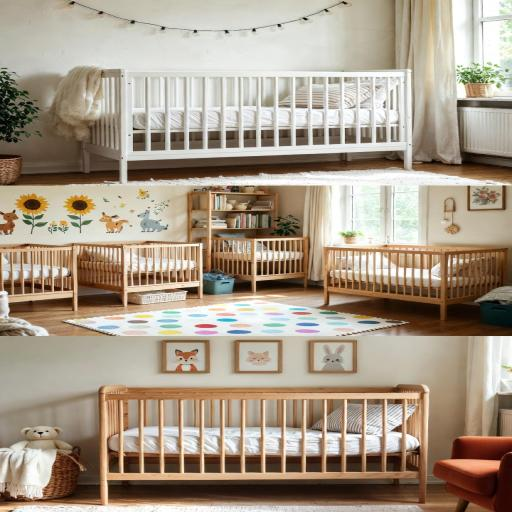crib: (99, 385, 428, 504), (84, 70, 411, 183), (324, 244, 507, 320), (74, 241, 202, 305), (211, 236, 308, 292), (0, 244, 77, 310)
